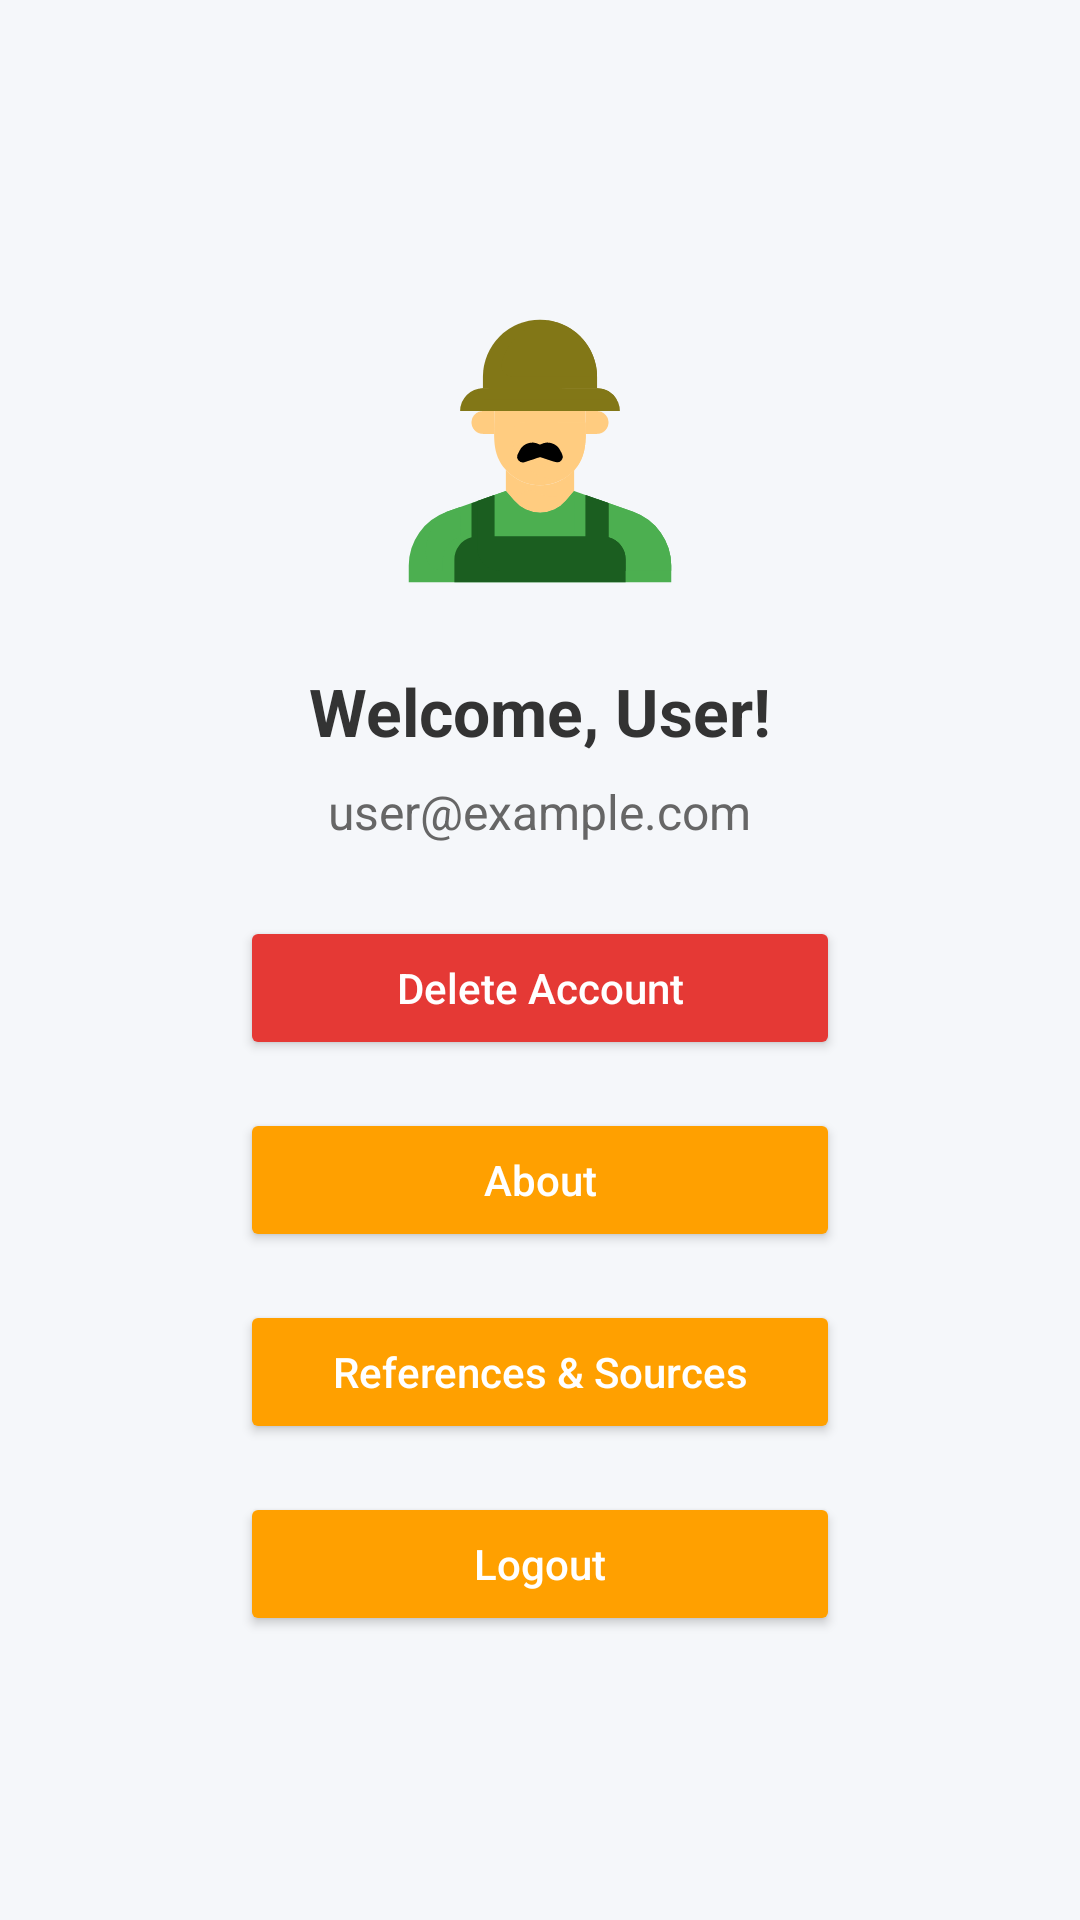

Screen size 1080x1920. Icon name, then its box in pixels as BBox(x1, y1, x2, y2):
Profile picture: BBox(408, 319, 672, 583)
